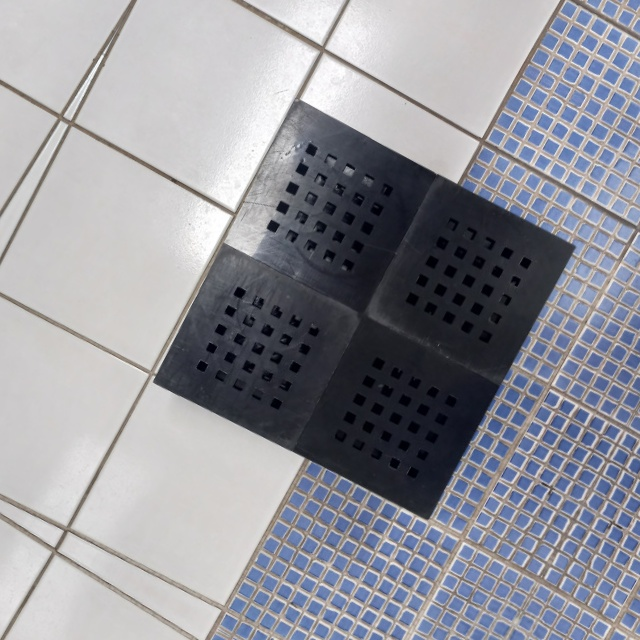pallet: (145, 95, 576, 529)
